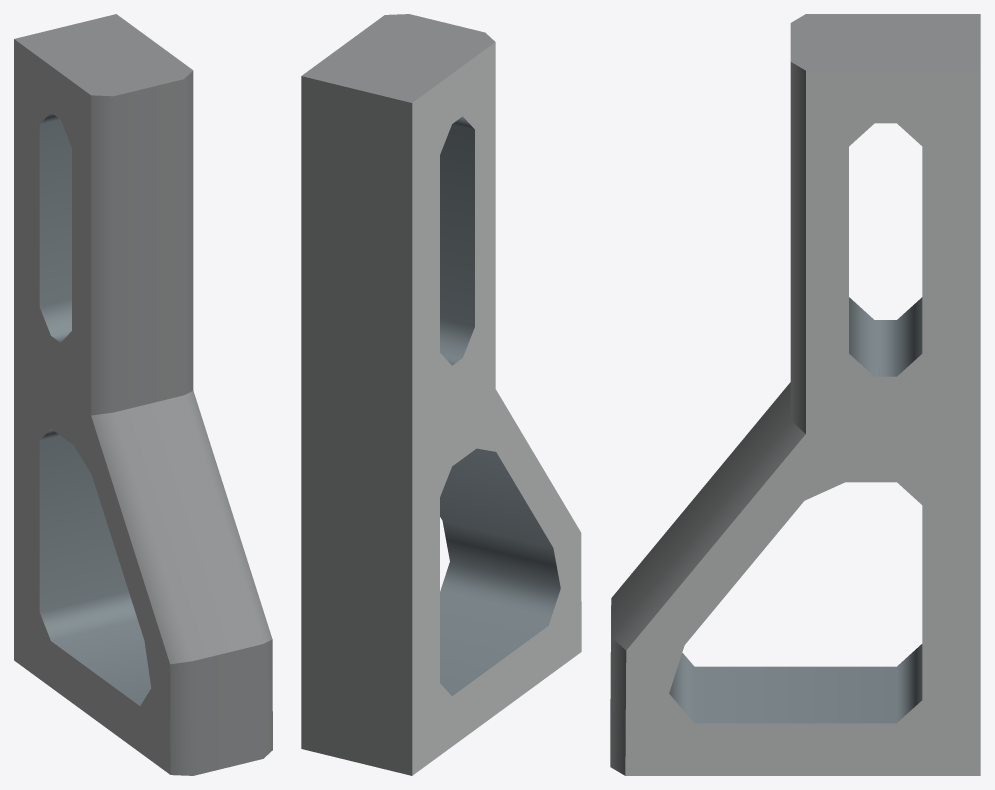
Rendered from Short_column_001.fbx.
3 views of the same model, side by side, from view 1: azimuth 30°, elevation 25°; view 2: azimuth 150°, elevation 25°; view 3: azimuth 270°, elevation 25° (orthographic). The views are drawn at different scales.
Visible parts, largest first — view 1: Short_column_001; view 2: Short_column_001; view 3: Short_column_001.
Part boxes in pixels (x1,y1,x2,y2): Short_column_001: [14, 14, 272, 775]; Short_column_001: [301, 14, 581, 775]; Short_column_001: [610, 14, 980, 775].
Size of the model in its own units: 22.41 by 61.88 by 130.
